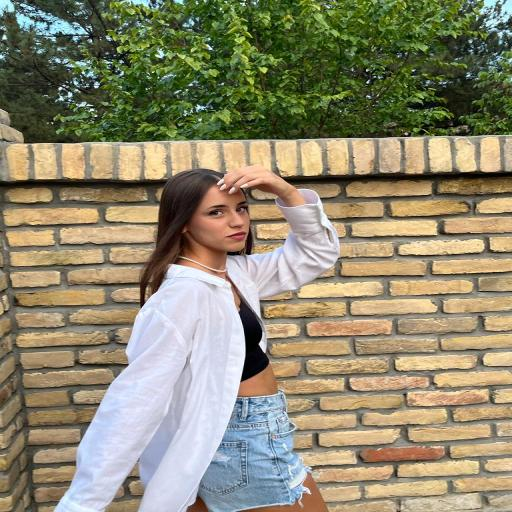masa: (183, 184, 251, 254)
